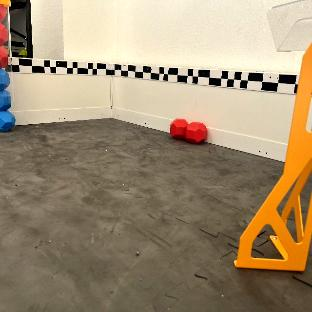Goal: (235, 0, 312, 271)
V5_BLUE: (0, 68, 15, 132)
V5_RED: (170, 118, 206, 143), (0, 45, 8, 67), (0, 23, 8, 45)
